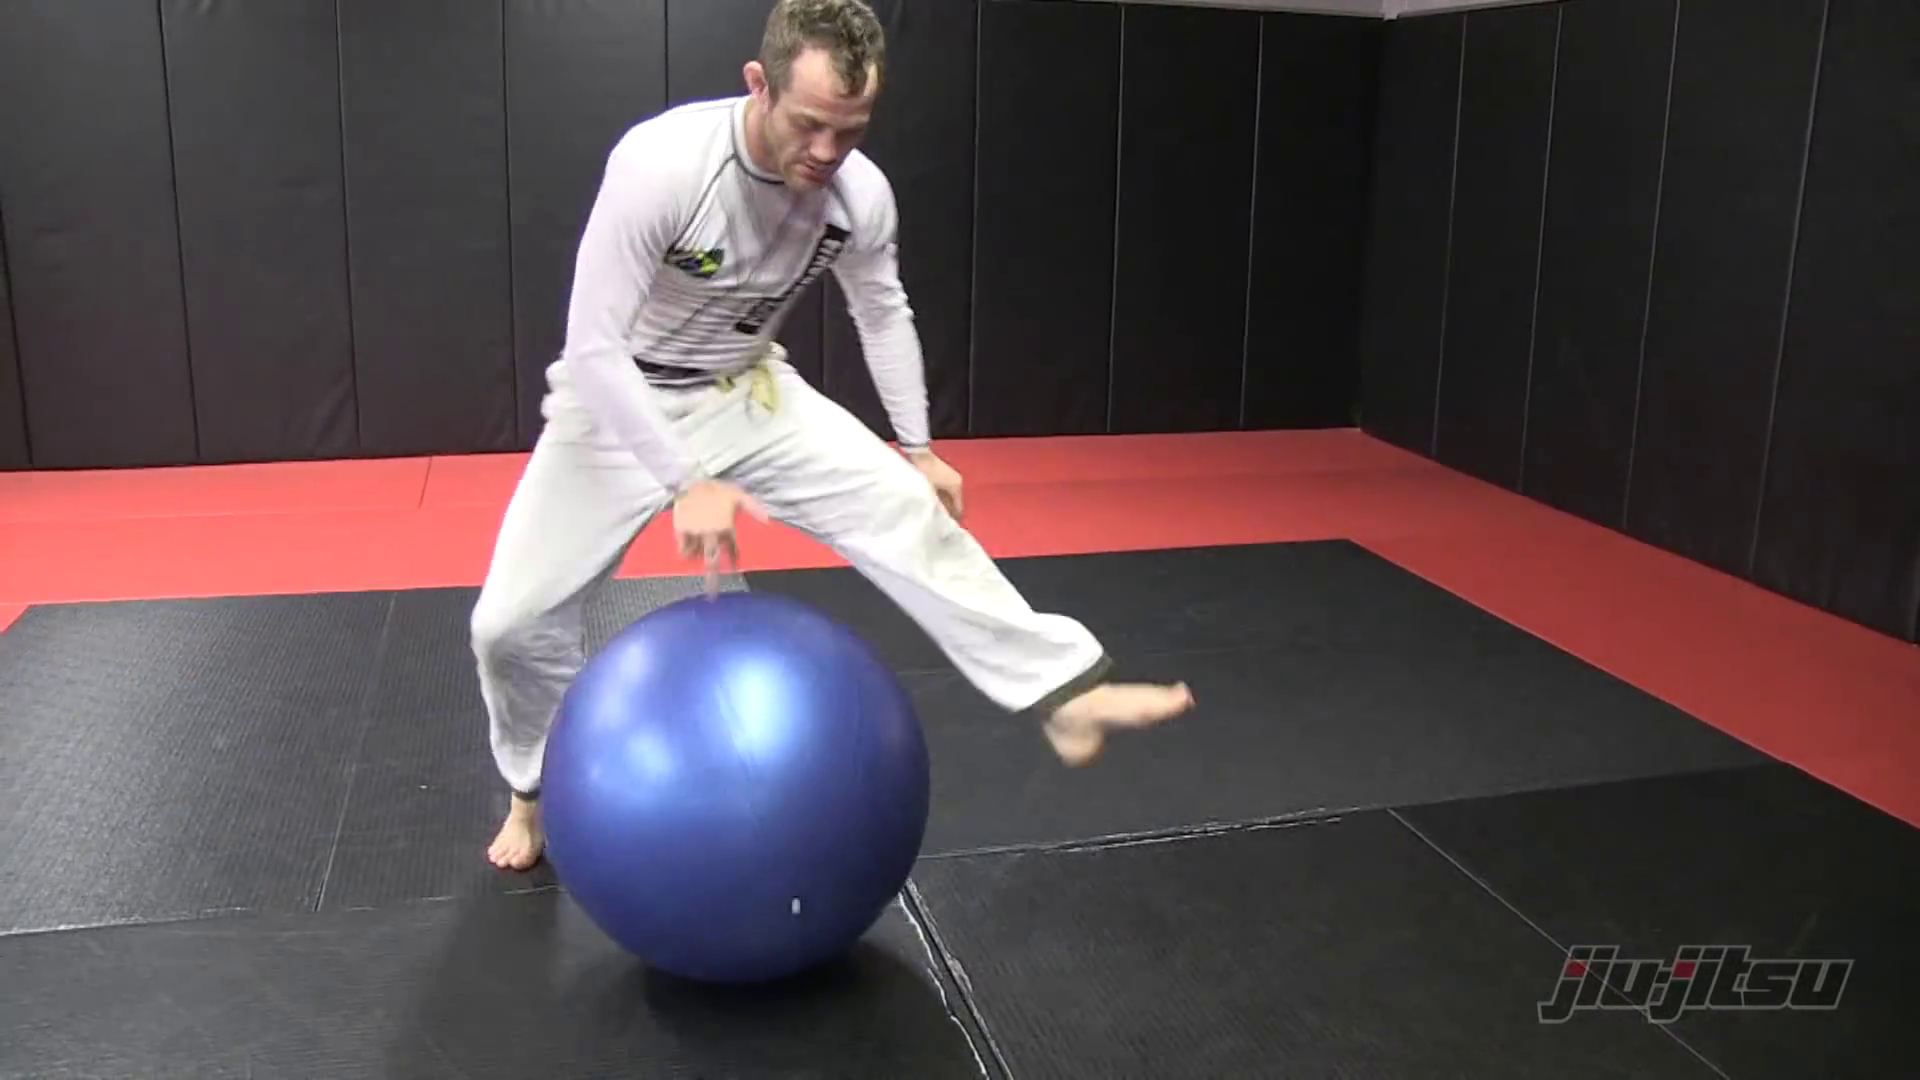yogaball: (541, 592, 943, 997)
